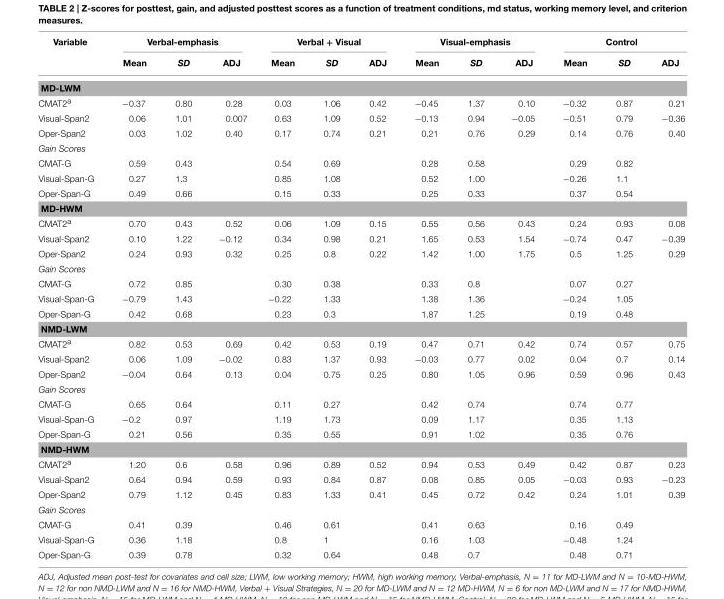table: (37, 37, 684, 559)
table column: (37, 37, 107, 559), (107, 37, 160, 559), (399, 37, 452, 559), (204, 37, 256, 559), (256, 37, 308, 559), (548, 37, 600, 559), (497, 37, 548, 559), (353, 37, 399, 559), (600, 37, 646, 559), (308, 37, 353, 559), (452, 37, 497, 559), (160, 37, 204, 559), (646, 37, 684, 559)
table column header: (37, 37, 684, 75)
table projected row header: (37, 75, 684, 94), (37, 140, 684, 155), (37, 261, 684, 276), (37, 381, 684, 396), (37, 502, 684, 517), (37, 200, 684, 214), (37, 321, 684, 335), (37, 441, 684, 455)
table row: (37, 52, 684, 75), (37, 75, 684, 94), (37, 214, 684, 231), (37, 94, 684, 110), (37, 335, 684, 351), (37, 455, 684, 471), (37, 471, 684, 487), (37, 37, 684, 52), (37, 110, 684, 125), (37, 125, 684, 140), (37, 140, 684, 155), (37, 155, 684, 170), (37, 170, 684, 185), (37, 185, 684, 200), (37, 231, 684, 246), (37, 246, 684, 261), (37, 261, 684, 276), (37, 276, 684, 291), (37, 291, 684, 306), (37, 306, 684, 321), (37, 351, 684, 366), (37, 366, 684, 381), (37, 381, 684, 396), (37, 396, 684, 411), (37, 411, 684, 426), (37, 426, 684, 441), (37, 487, 684, 502), (37, 502, 684, 517), (37, 517, 684, 532), (37, 532, 684, 547), (37, 200, 684, 214), (37, 321, 684, 335), (37, 441, 684, 455), (37, 547, 684, 559)
table spanning cell: (37, 37, 107, 75), (107, 37, 256, 52), (399, 37, 548, 52), (256, 37, 399, 52), (548, 37, 684, 52)
